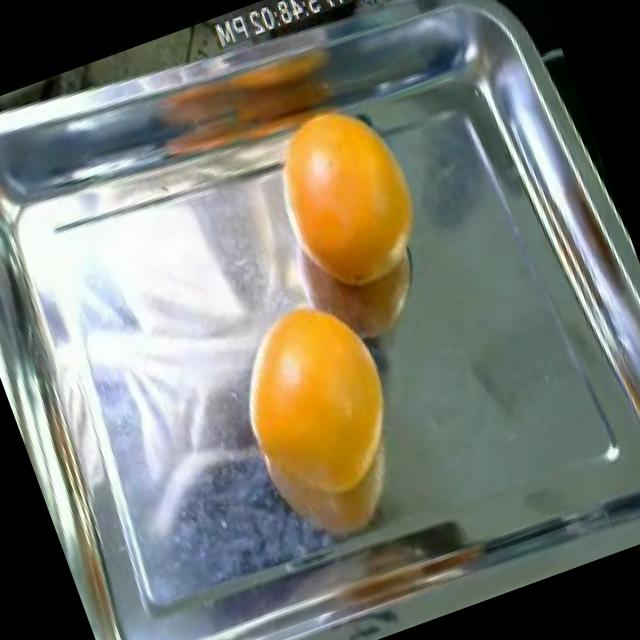Fruit: (203, 270, 425, 517), (243, 74, 455, 315)
